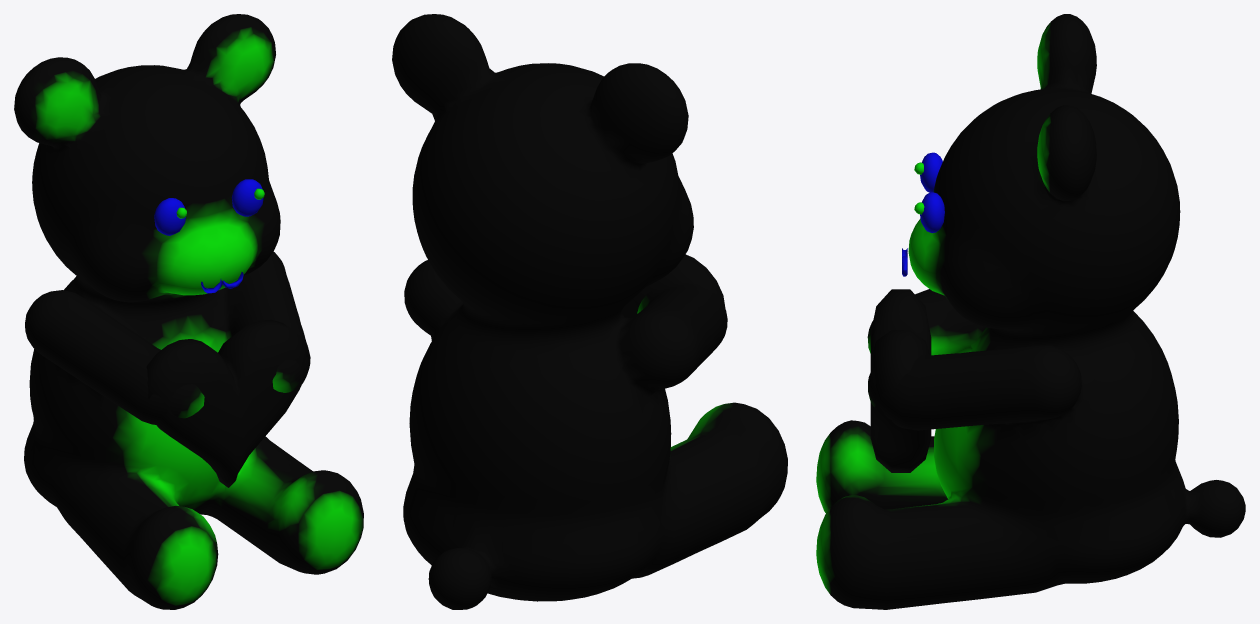
The model's file is bear_hug.glb.
The picture shows the model from 3 angles, left to right: view 1: azimuth 30°, elevation 25°; view 2: azimuth 150°, elevation 25°; view 3: azimuth 270°, elevation 25°; orthographic projection. The views are drawn at different scales.
Visible parts, largest first — view 1: bear_hug; view 2: bear_hug; view 3: bear_hug.
Boxes of the visible parts, x1,y1,x2,y2 form: bear_hug: (14,14,363,609); bear_hug: (392,14,787,609); bear_hug: (816,14,1245,609).
Bounding box in the file's own units: 0.5625 × 1.01 × 0.7759.
